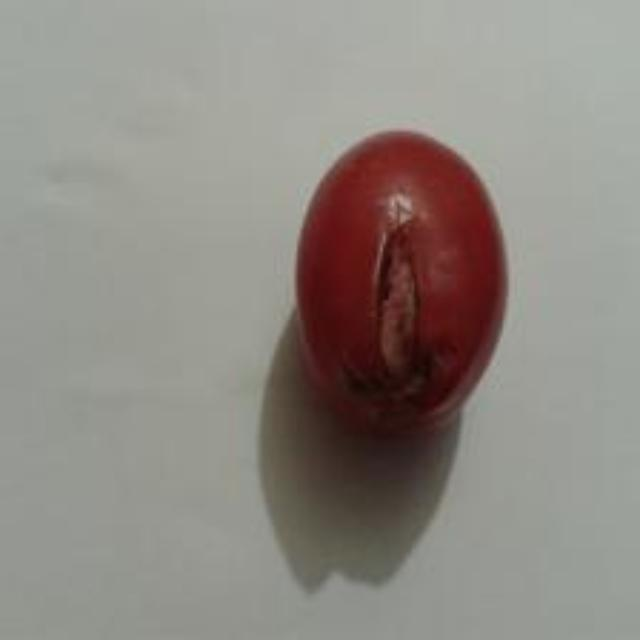defect: (286, 114, 515, 441)
